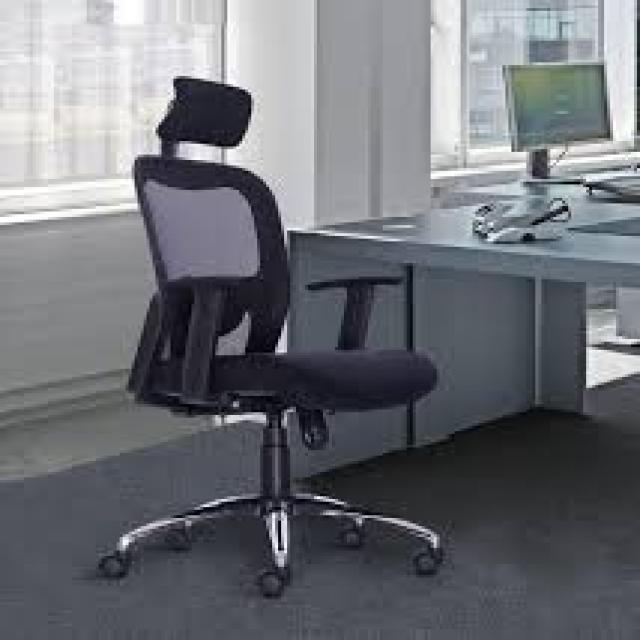chair: (75, 63, 460, 637)
